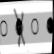correct: (44, 14, 53, 37)
no answer: (28, 15, 40, 38), (0, 16, 9, 40)
not correct: (11, 6, 27, 49)
